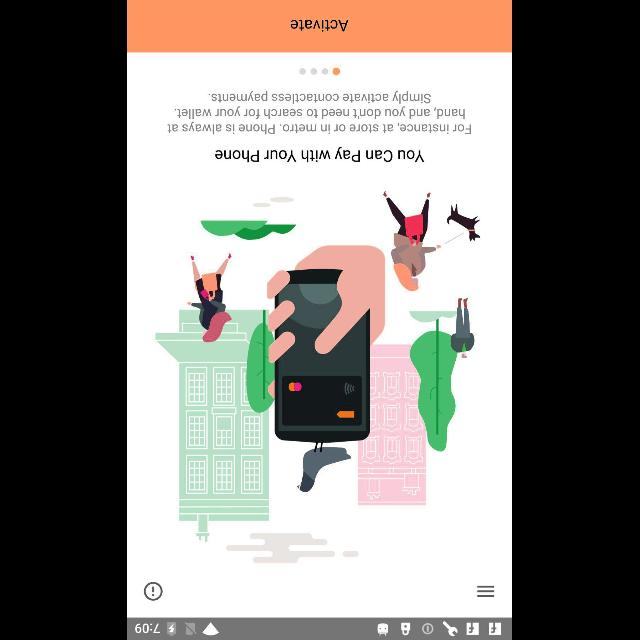icon: (144, 582, 164, 600), (478, 586, 496, 596)
image: (156, 191, 480, 563)
pageindicator: (300, 67, 342, 75)
text: (168, 92, 472, 134), (216, 147, 424, 163)
textbutton: (128, 0, 512, 52)
uppertaskbar: (128, 617, 512, 639)
